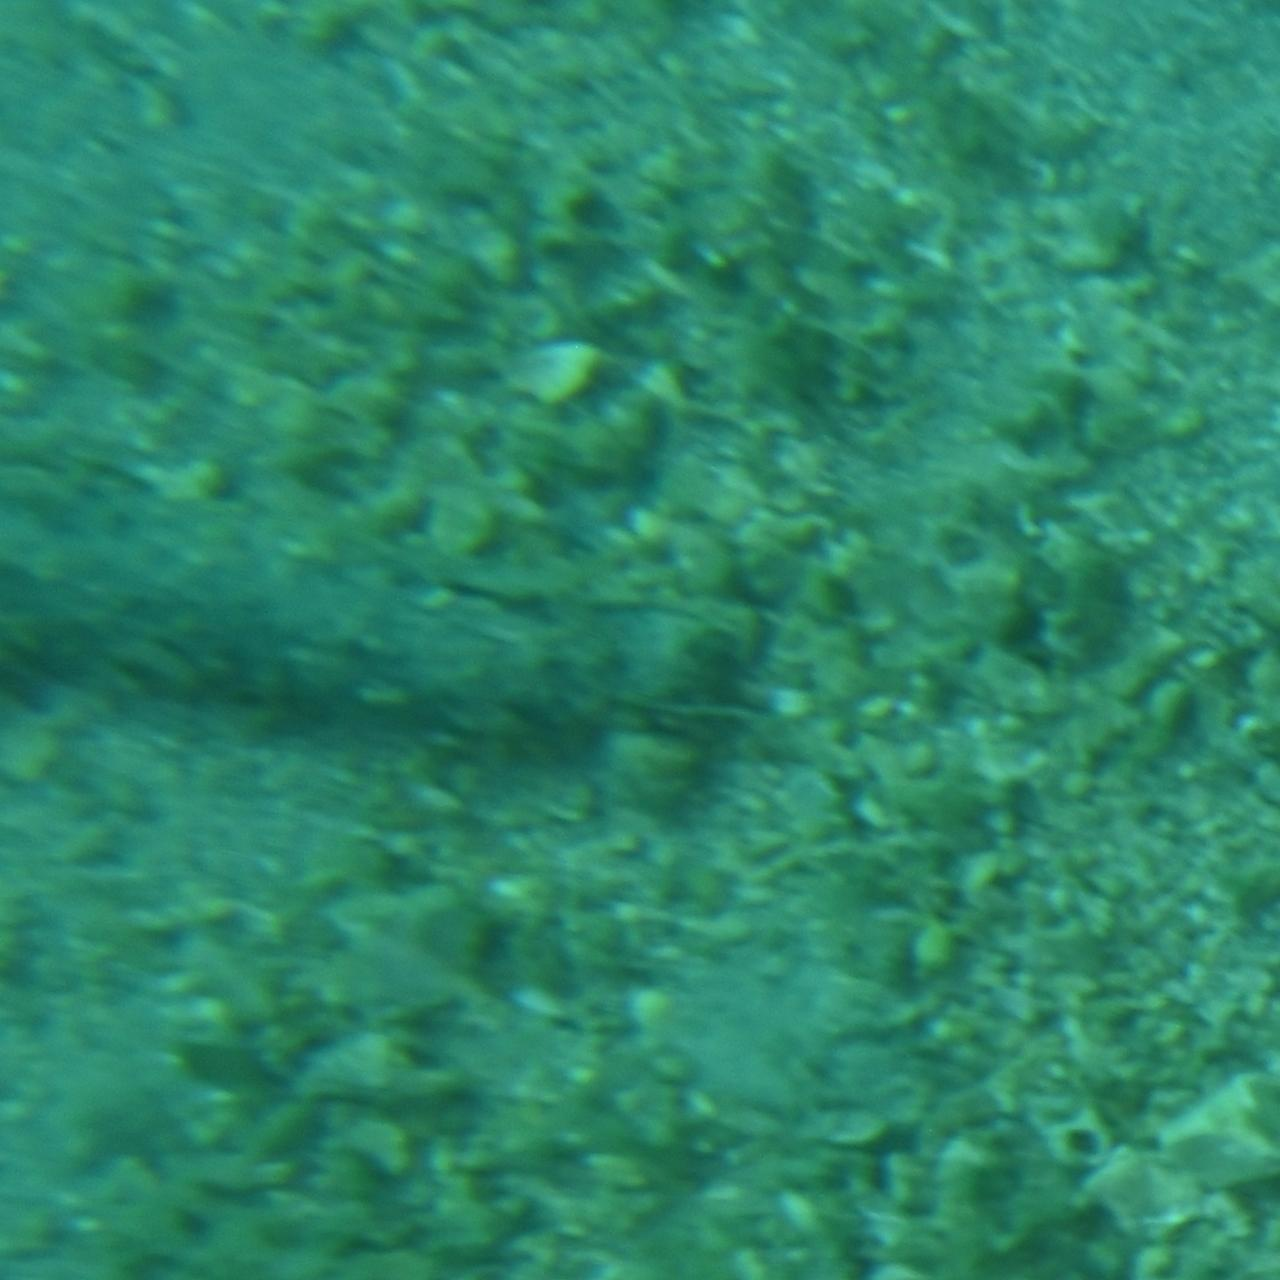Holothuria tubulosa: (0, 520, 736, 760)
